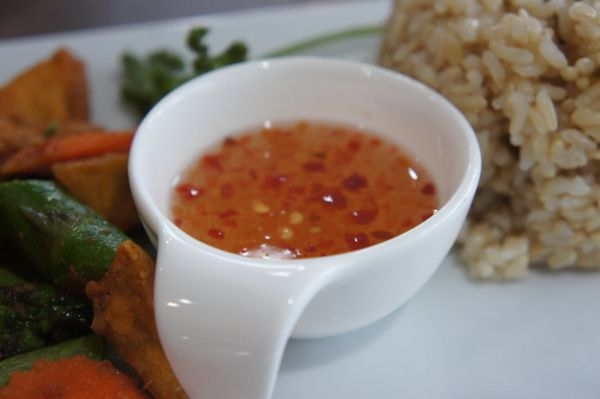curry: (117, 25, 251, 110)
sushi: (126, 58, 482, 394)
